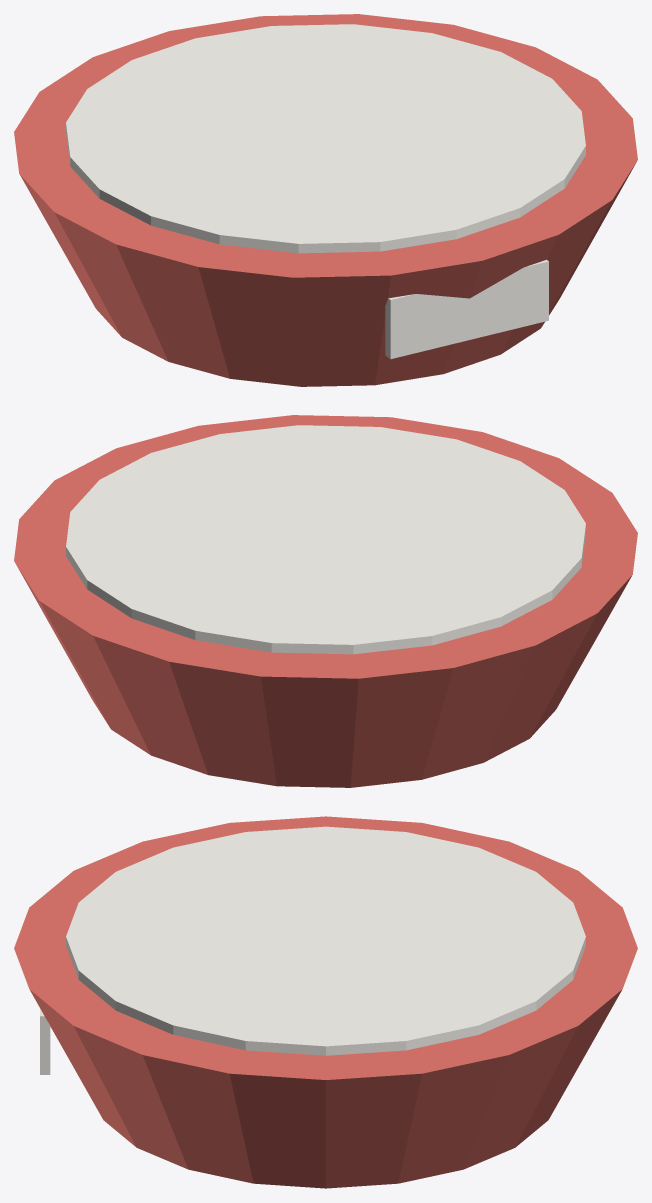
File: cat_bowl.glb
The picture shows the model from 3 angles, top to bottom: view 1: azimuth 30°, elevation 25°; view 2: azimuth 150°, elevation 25°; view 3: azimuth 270°, elevation 25°; orthographic projection.
Visible parts, largest first — view 1: CatBowl; view 2: CatBowl; view 3: CatBowl.
Part boxes in pixels (x1,y1,x2,y2): CatBowl: (14,14,637,386); CatBowl: (14,415,637,787); CatBowl: (14,816,637,1188).
Size of the model in its own units: 0.24 by 0.065 by 0.24.
